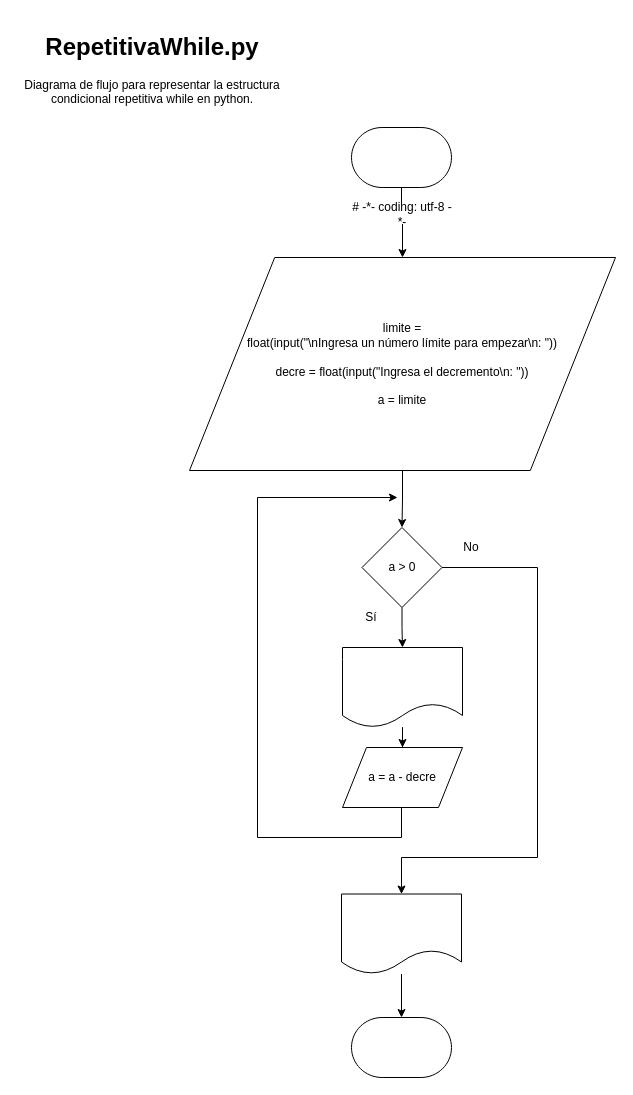
This 633x1095 diagram has some shape labels left out. Each missing label, with the box of its shape:
"\nEso fue todo, adiós!": (340, 893, 462, 974)
a, "Sigo adentro": (342, 646, 462, 728)
